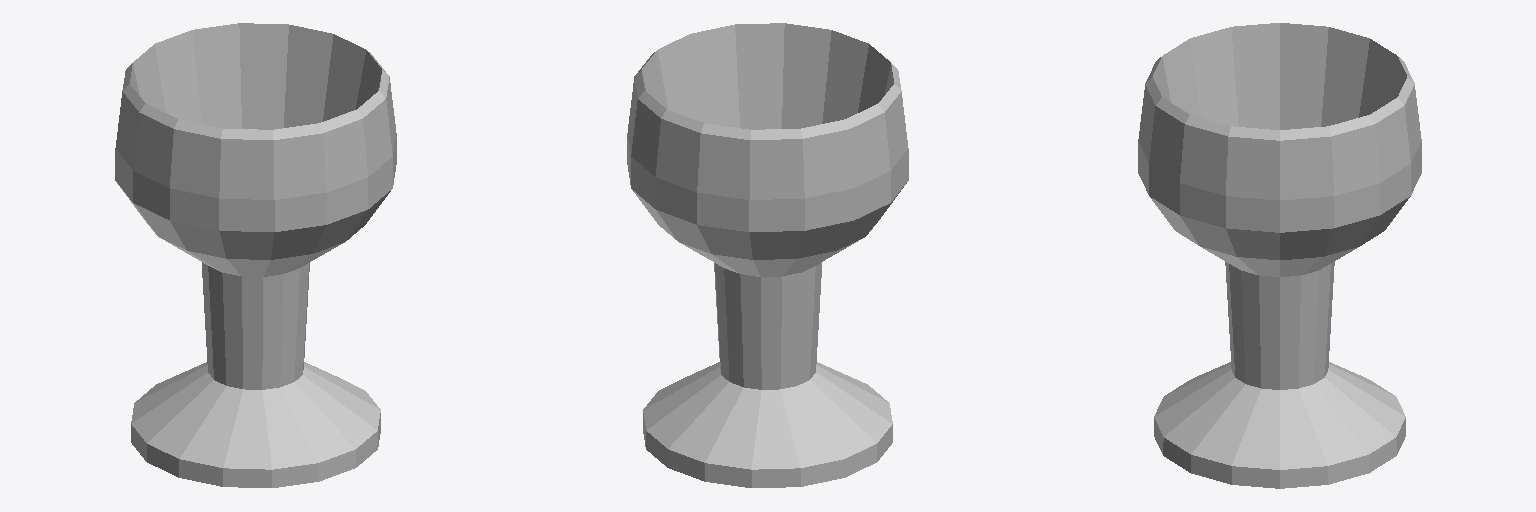
File: Goblet.obj
The picture shows the model from 3 angles: view 1: azimuth 30°, elevation 25°; view 2: azimuth 150°, elevation 25°; view 3: azimuth 270°, elevation 25°; orthographic projection.
Size of the model in its own units: 94.79 by 132 by 94.79.